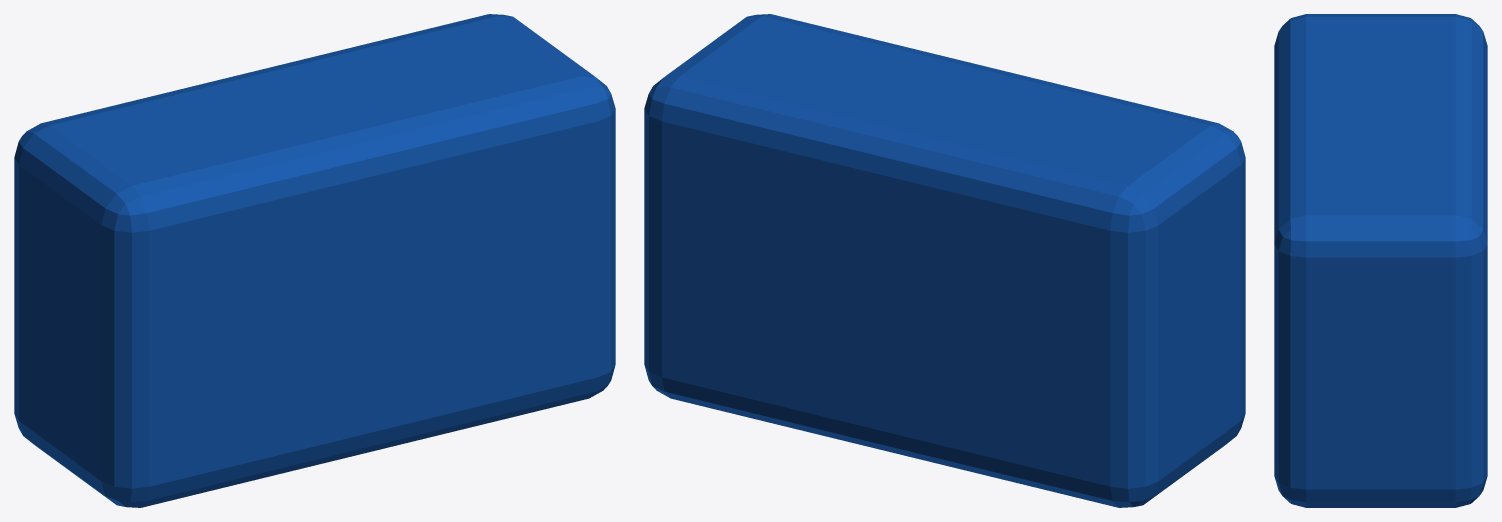
File: asset.glb
The picture shows the model from 3 angles, left to right: view 1: azimuth 30°, elevation 25°; view 2: azimuth 150°, elevation 25°; view 3: azimuth 270°, elevation 25°; orthographic projection. The views are drawn at different scales.
Visible parts, largest first — view 1: product.body__LOD0; view 2: product.body__LOD0; view 3: product.body__LOD0.
Part boxes in pixels (x1,y1,x2,y2): product.body__LOD0: (14, 14, 615, 507); product.body__LOD0: (644, 14, 1245, 507); product.body__LOD0: (1274, 14, 1487, 507).
Size of what is drawn, in the model's own units: 2 by 1.2 by 0.8.
1 material, 1 textured.
